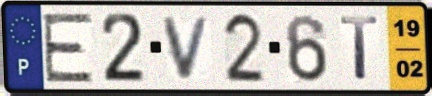2: (220, 10, 268, 86), (100, 10, 148, 85)
6: (283, 12, 330, 84)
E: (40, 11, 95, 85)
T: (338, 15, 383, 82)
V: (160, 14, 215, 82)
